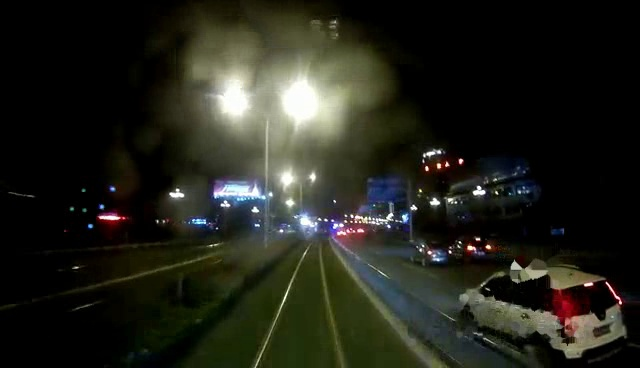car: (453, 265, 636, 367), (409, 239, 451, 268), (453, 234, 493, 260)
